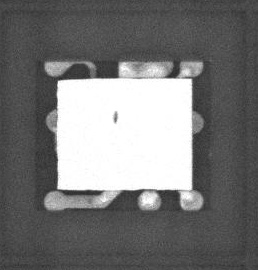DIE_INK: (107, 115, 113, 130)
